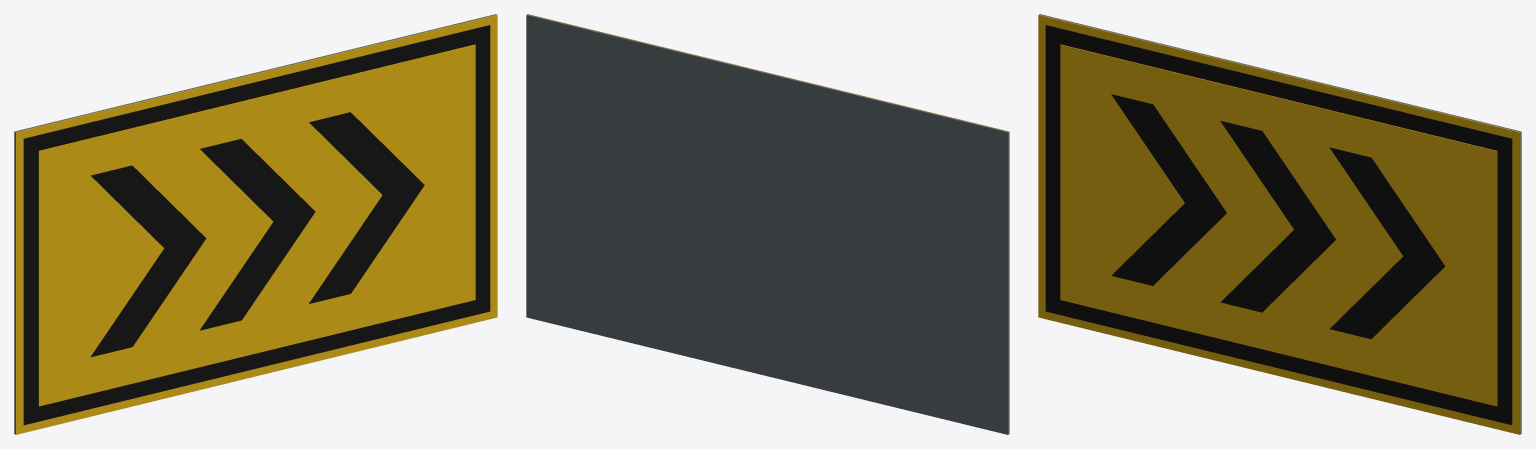
Rendered from PlacaSetas.fbx.
3 renders of one model, left to right at view 1: azimuth 30°, elevation 25°; view 2: azimuth 150°, elevation 25°; view 3: azimuth 330°, elevation 25°, orthographic.
Parts seen in each view (by area): view 1: PlacaSetas; view 2: PlacaSetas; view 3: PlacaSetas.
Boxes of the visible parts, x1,y1,x2,y2 form: PlacaSetas: [14, 14, 497, 434]; PlacaSetas: [526, 14, 1009, 434]; PlacaSetas: [1038, 14, 1521, 434].
Bounding box in the file's own units: 0.75 × 0.45 × 0.007.
